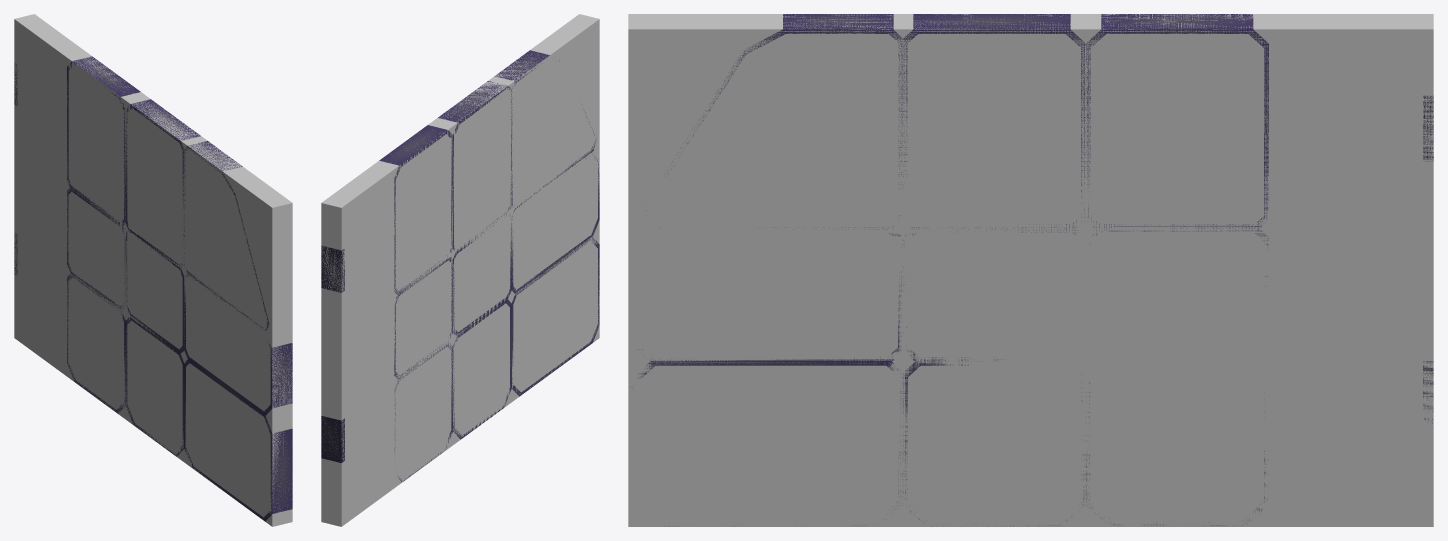
Rendered from SM_Billboard_07.fbx.
3 views of the same model, side by side, from view 1: azimuth 30°, elevation 25°; view 2: azimuth 150°, elevation 25°; view 3: azimuth 270°, elevation 25° (orthographic). The views are drawn at different scales.
Parts seen in each view (by area): view 1: SM_Billboard_07_ConvexHulls, SM_Billboard_07; view 2: SM_Billboard_07_ConvexHulls, SM_Billboard_07; view 3: SM_Billboard_07_ConvexHulls, SM_Billboard_07.
Part boxes in pixels (x1,y1,x2,y2): SM_Billboard_07_ConvexHulls: (14,14,292,526); SM_Billboard_07: (14,56,292,521); SM_Billboard_07_ConvexHulls: (321,14,599,526); SM_Billboard_07: (321,50,599,482); SM_Billboard_07_ConvexHulls: (628,14,1433,526); SM_Billboard_07: (638,14,1433,526).
Bounding box in the file's own units: 20 × 440 × 300.
